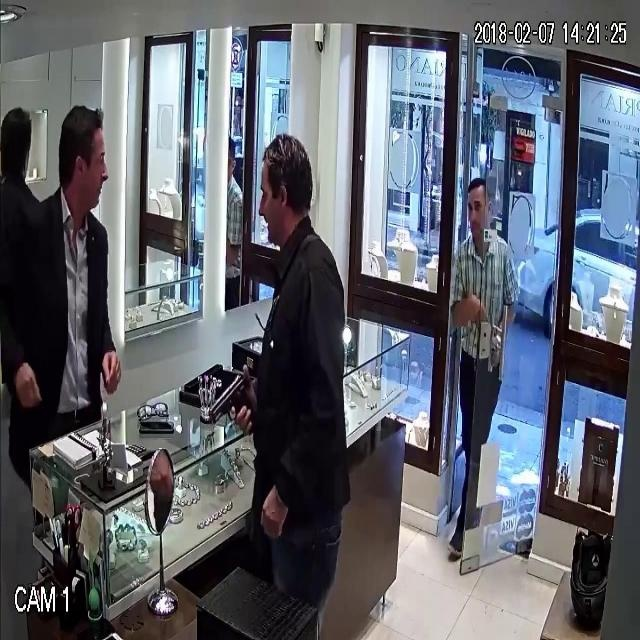gun: (198, 355, 265, 450)
